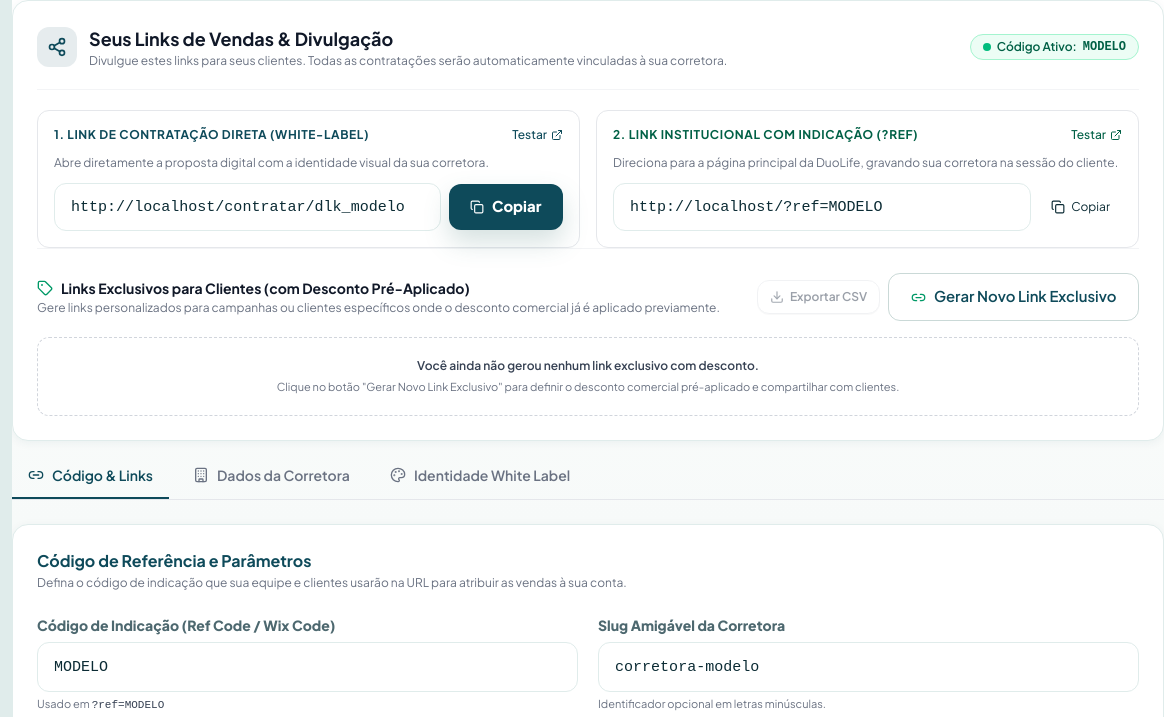
Test: Portal Branding UI - Aba Identidade White Label › deve permitir remover o logotipo atual e exibir o estado vazio com "Escolher Logotipo"
Click the button "Identidade White Label": {"x": 480, "y": 482} [374,465,586,499]
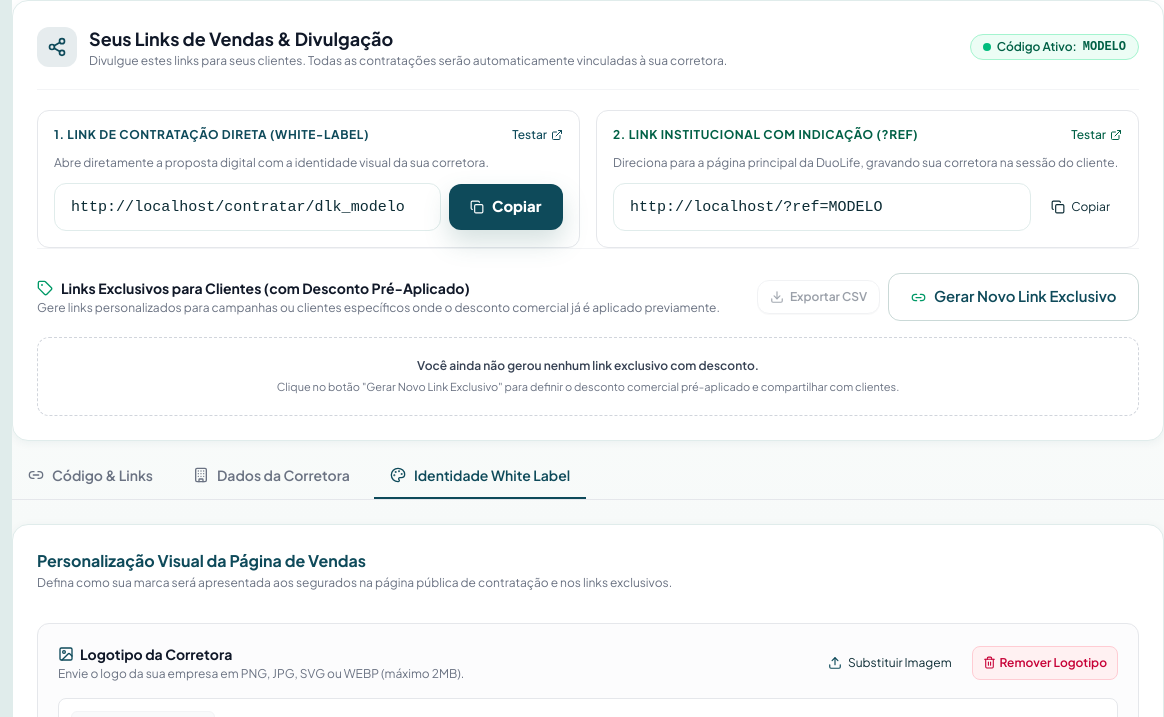
expect the button "Remover Logotipo" is shown: met
Click the button "Remover Logotipo": {"x": 1045, "y": 663} [972,646,1118,680]
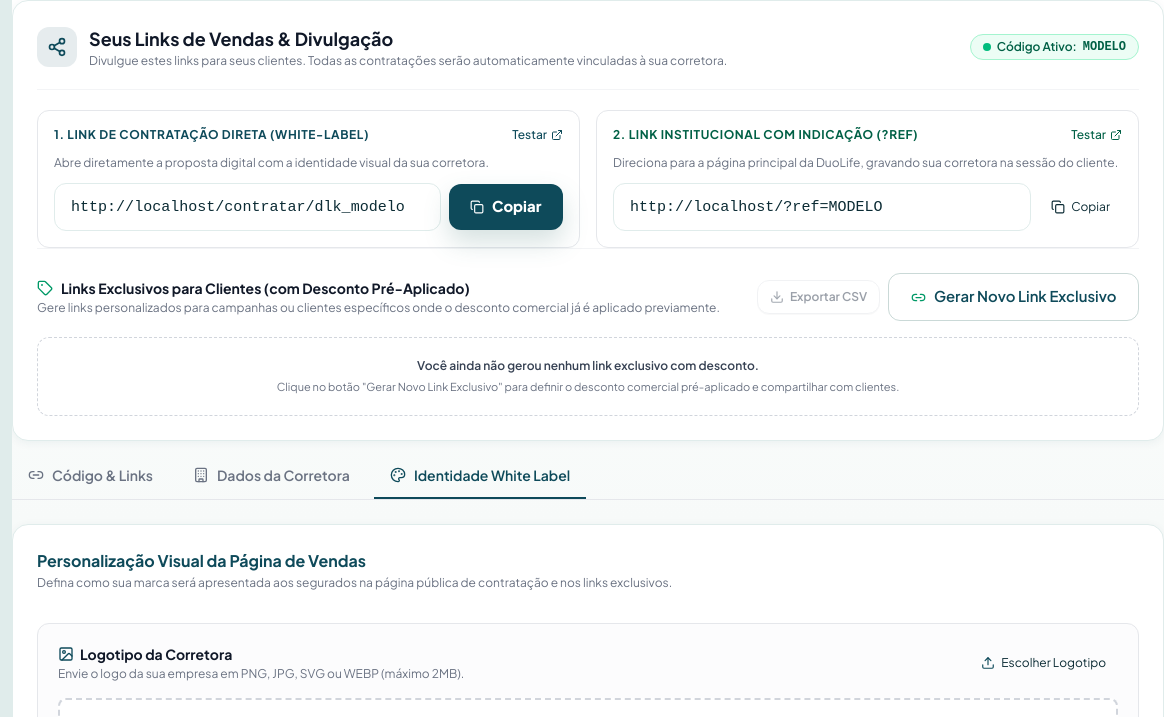
expect the text "Escolher Logotipo" is shown: met, box [1001,655,1106,671]
